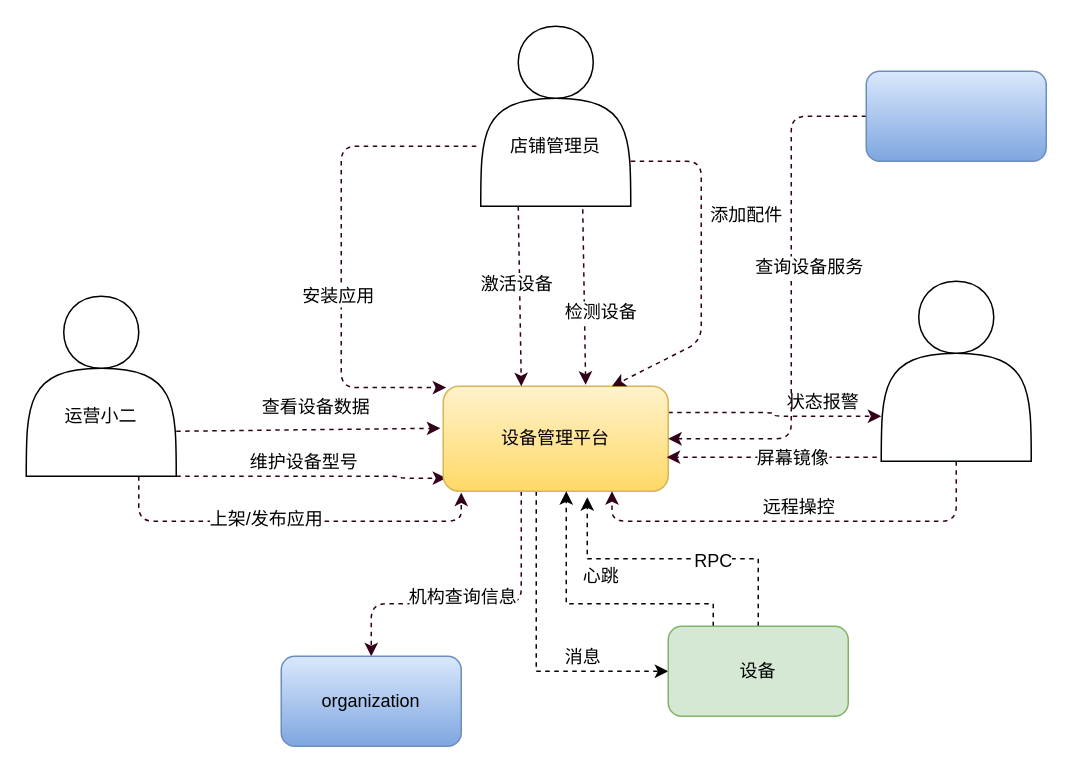
Image size: 1073x773. Some labels were removed from this diagram. Each missing label, with the box of its shape:
业务系统: (865, 70, 1046, 161)
技术小二: (880, 280, 1031, 461)
